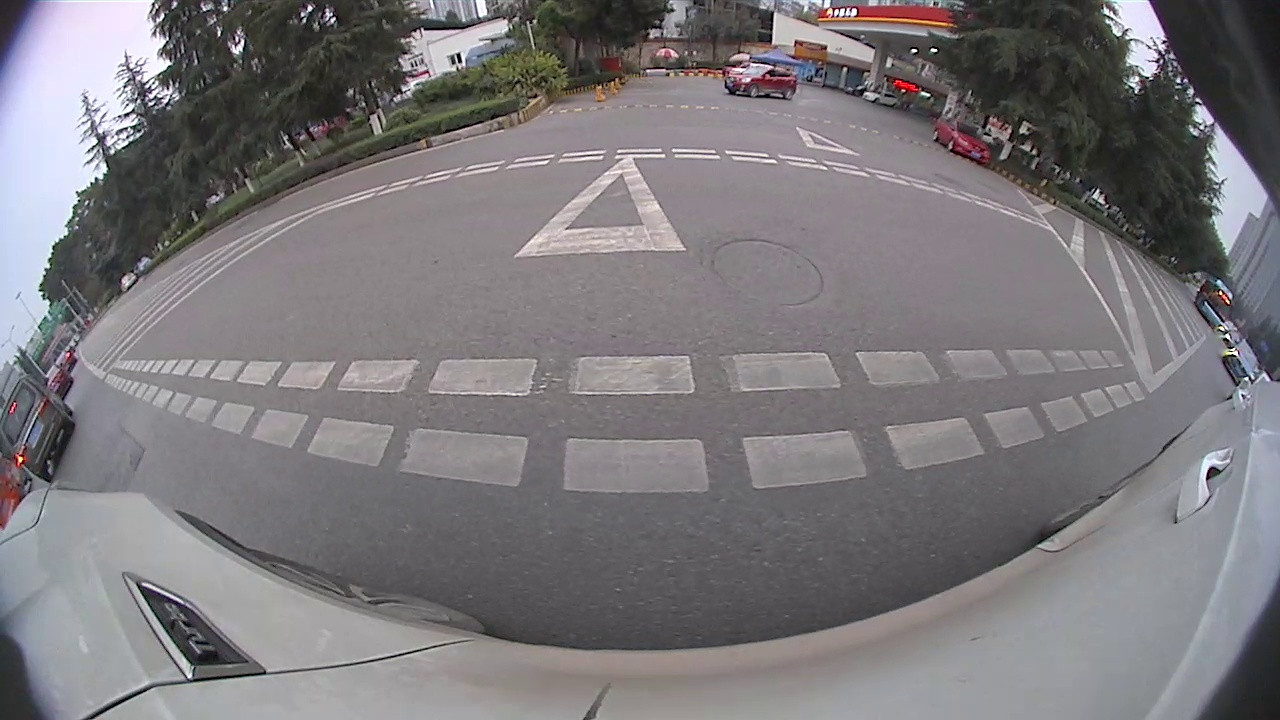bus: (1192, 272, 1238, 333)
car: (2, 372, 79, 482), (929, 112, 999, 170), (722, 59, 802, 100), (1218, 339, 1267, 386)
front: (749, 84, 760, 98)
rear: (784, 87, 794, 99)
